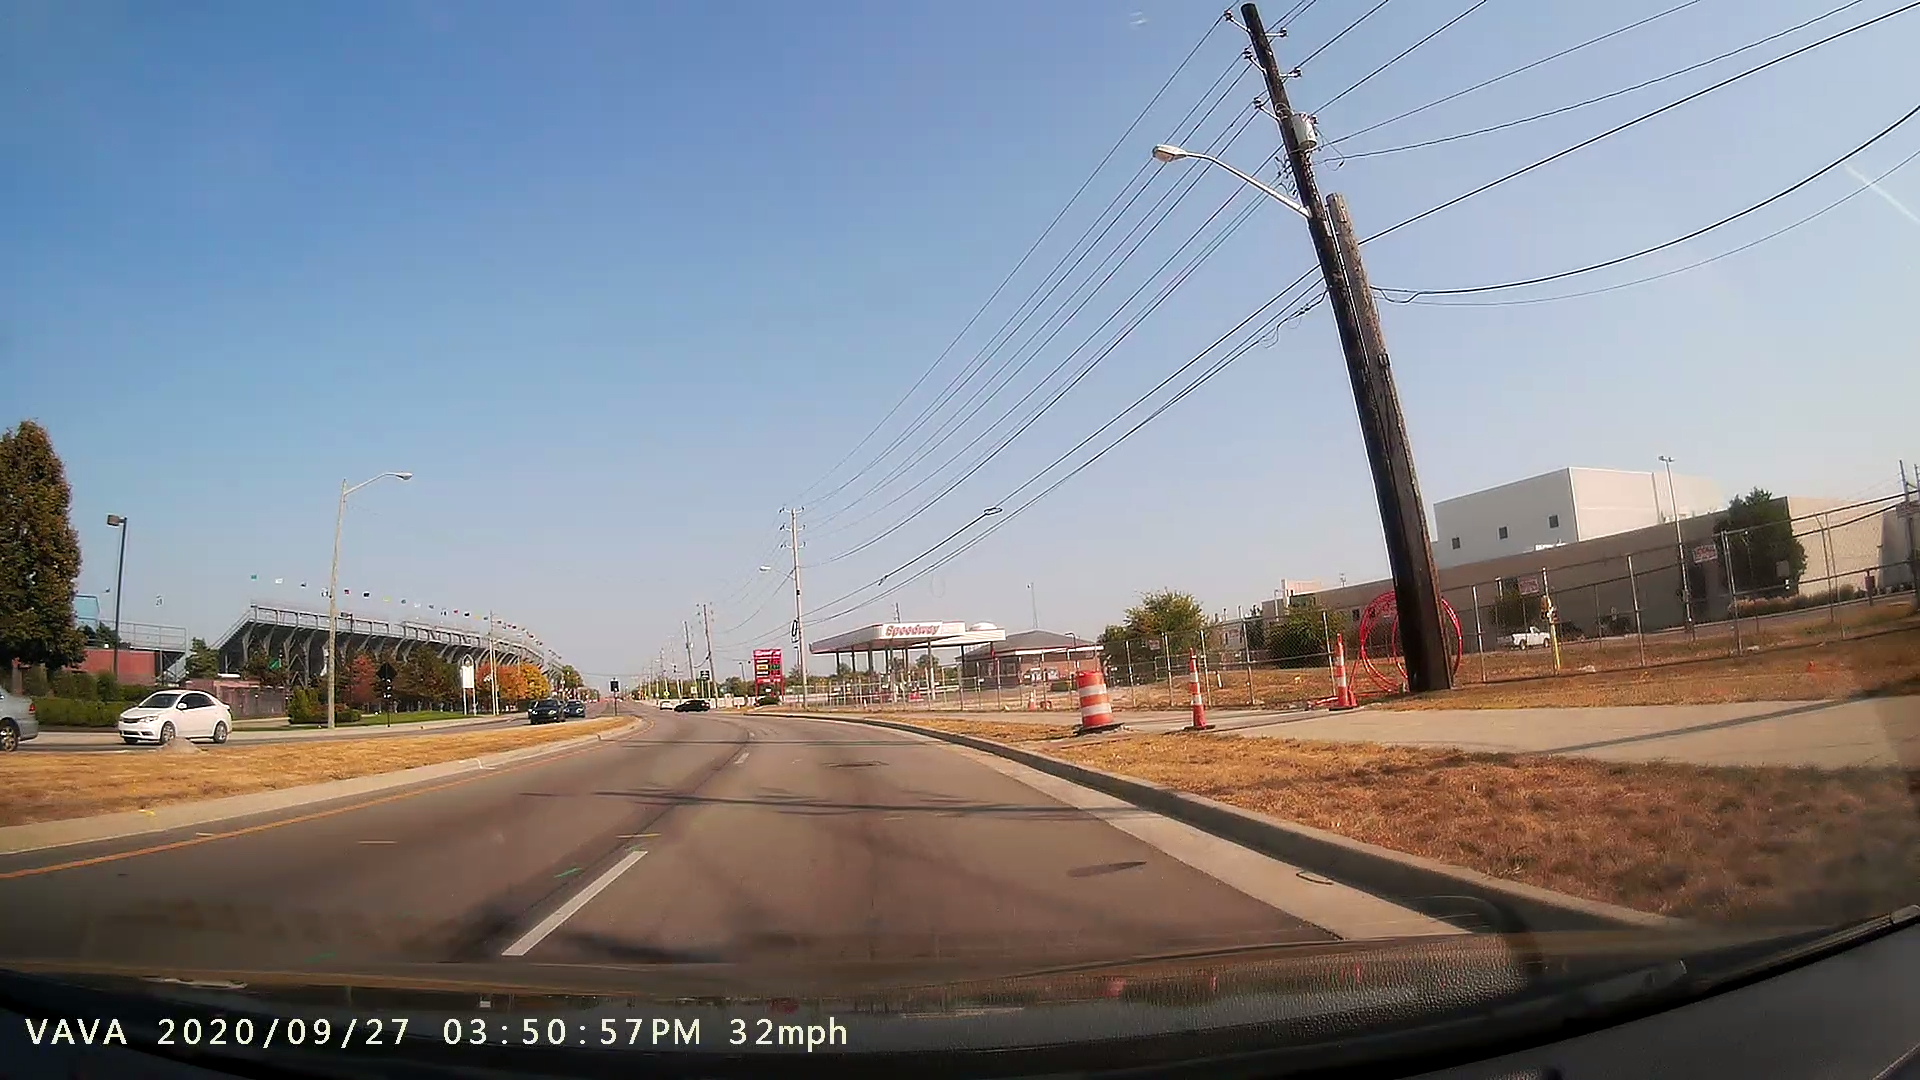const_barrel: (1054, 654, 1131, 748)
const_looper_cone: (1179, 638, 1218, 742)
